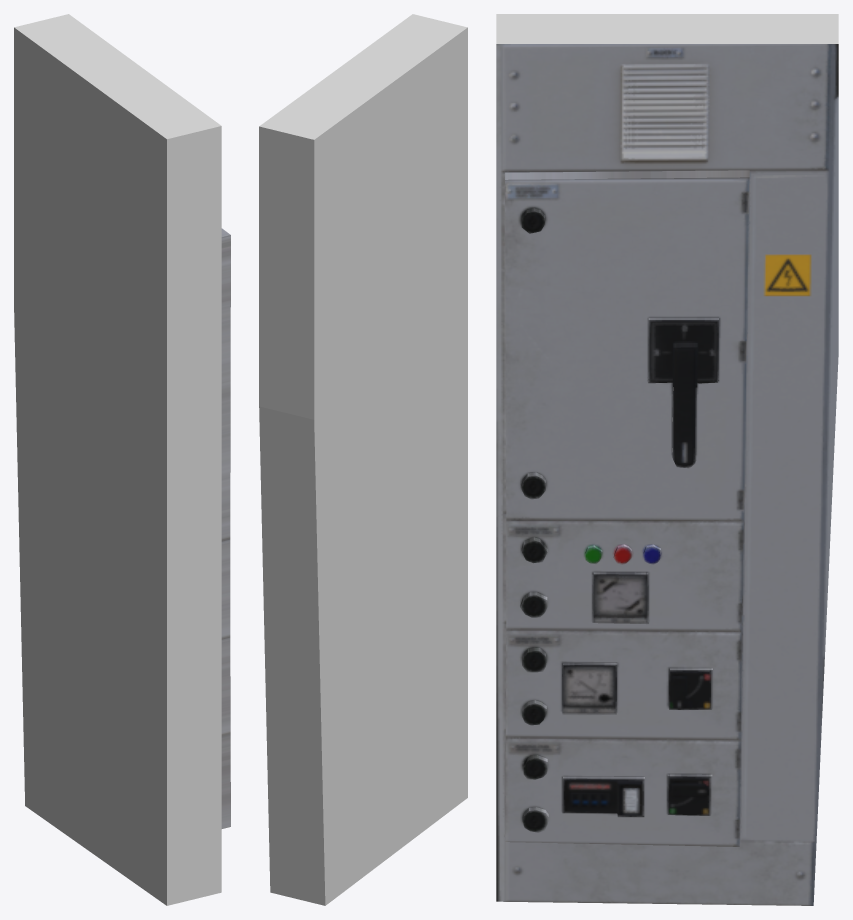
The model's file is panel4_1.fbx.
The picture shows the model from 3 angles, left to right: view 1: azimuth 30°, elevation 25°; view 2: azimuth 150°, elevation 25°; view 3: azimuth 270°, elevation 25°; orthographic projection. The views are drawn at different scales.
Parts seen in each view (by area): view 1: panel4; view 2: panel4; view 3: panel4.
Boxes of the visible parts, x1,y1,x2,y2 form: panel4: (14,14,230,905); panel4: (259,14,467,905); panel4: (496,14,838,905).
Size of the model in its own units: 172 by 1587 by 571.
Materials: 2 (1 with a texture image).
